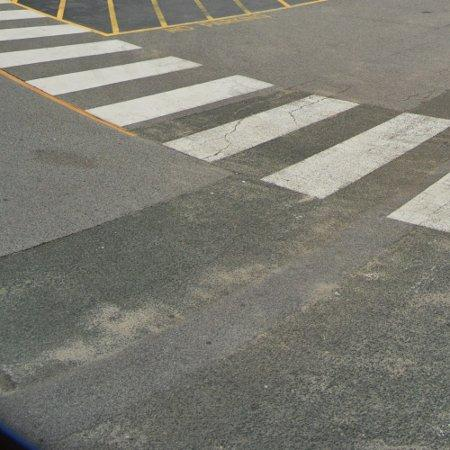crosswalks: (0, 1, 450, 238)
